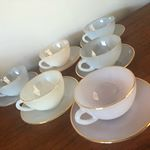cups: (70, 64, 140, 128), (14, 67, 66, 115), (76, 32, 125, 75), (35, 37, 72, 71), (80, 13, 117, 45)
